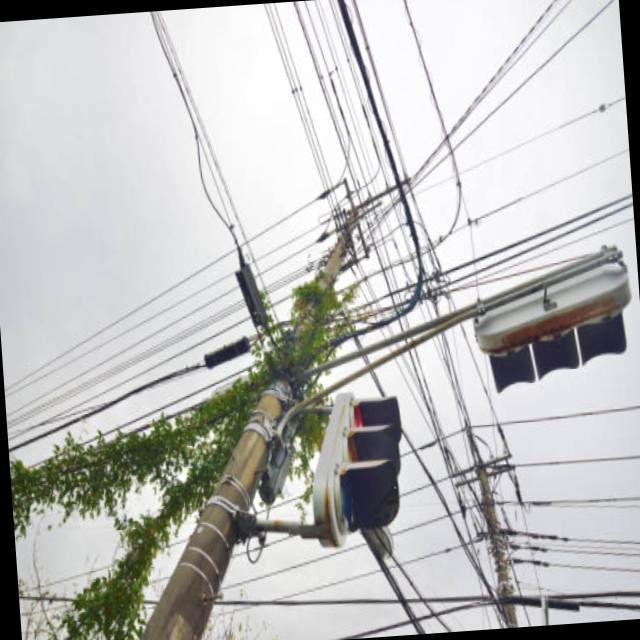critical vegetation: (198, 356, 320, 446), (278, 266, 359, 360)
